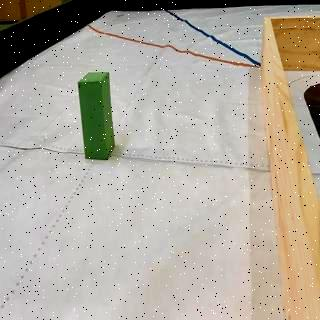greenbox: (77, 71, 114, 159)
